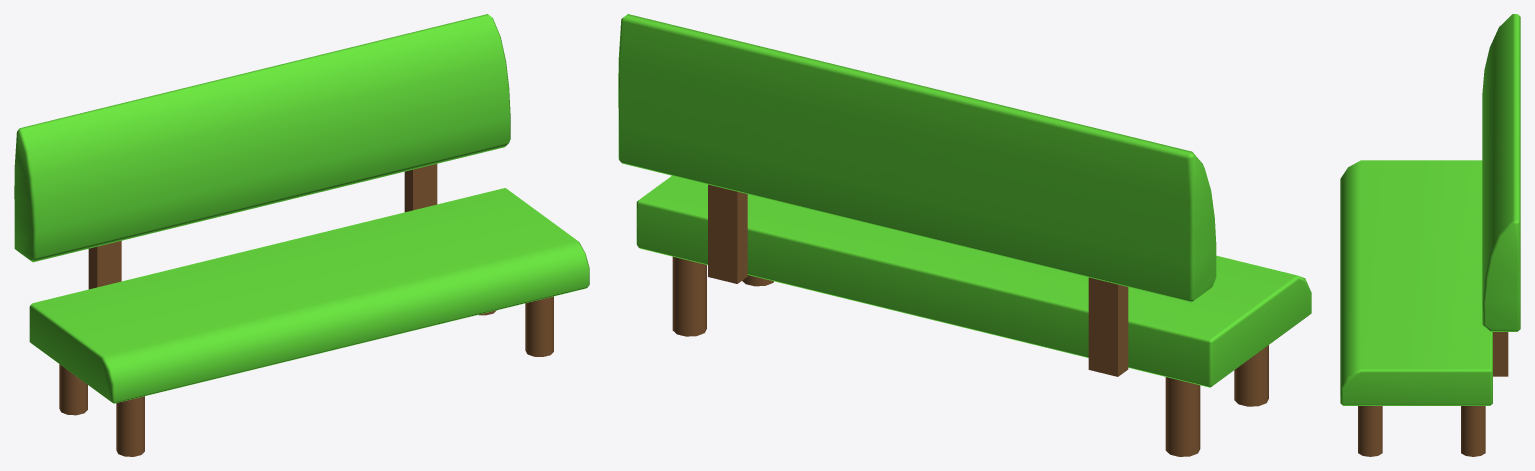
Rendered from Bench_NEW.fbx.
The picture shows the model from 3 angles, left to right: view 1: azimuth 30°, elevation 25°; view 2: azimuth 150°, elevation 25°; view 3: azimuth 270°, elevation 25°; orthographic projection. The views are drawn at different scales.
Visible parts, largest first — view 1: Bench_NEW; view 2: Bench_NEW; view 3: Bench_NEW.
Boxes of the visible parts, bbox=[...] form: Bench_NEW: bbox=[14, 14, 589, 456]; Bench_NEW: bbox=[618, 14, 1311, 456]; Bench_NEW: bbox=[1340, 14, 1520, 456].
Bounding box in the file's own units: 235 × 127 × 85.
